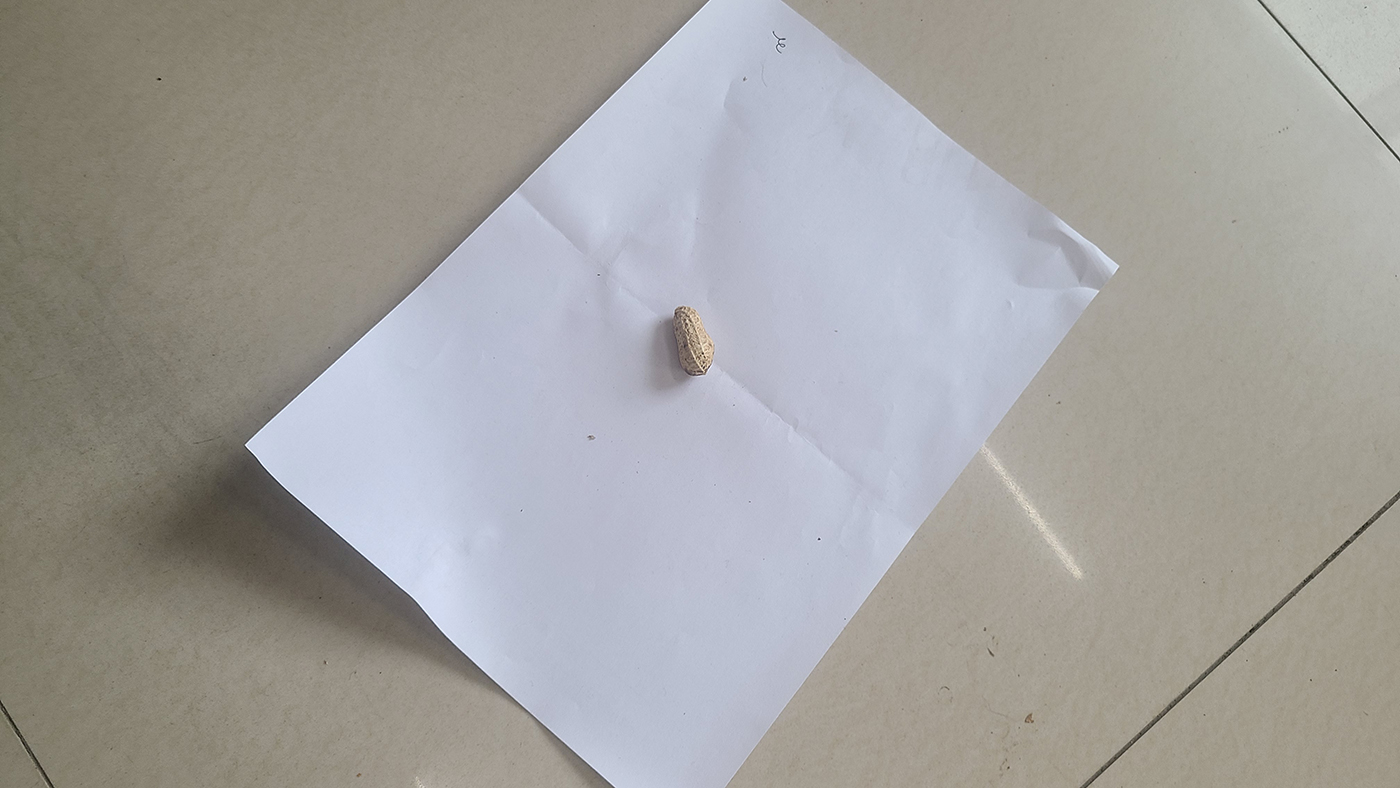h: (672, 305, 716, 377)
